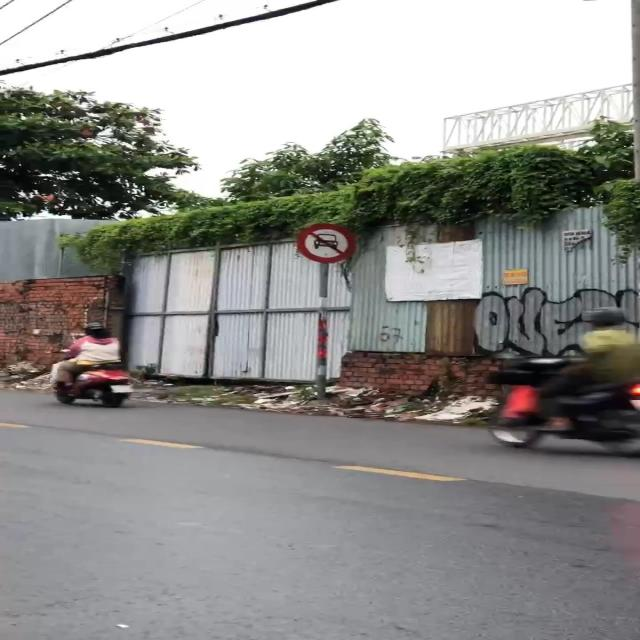Bien bao cam xe oto: (293, 220, 359, 264)
